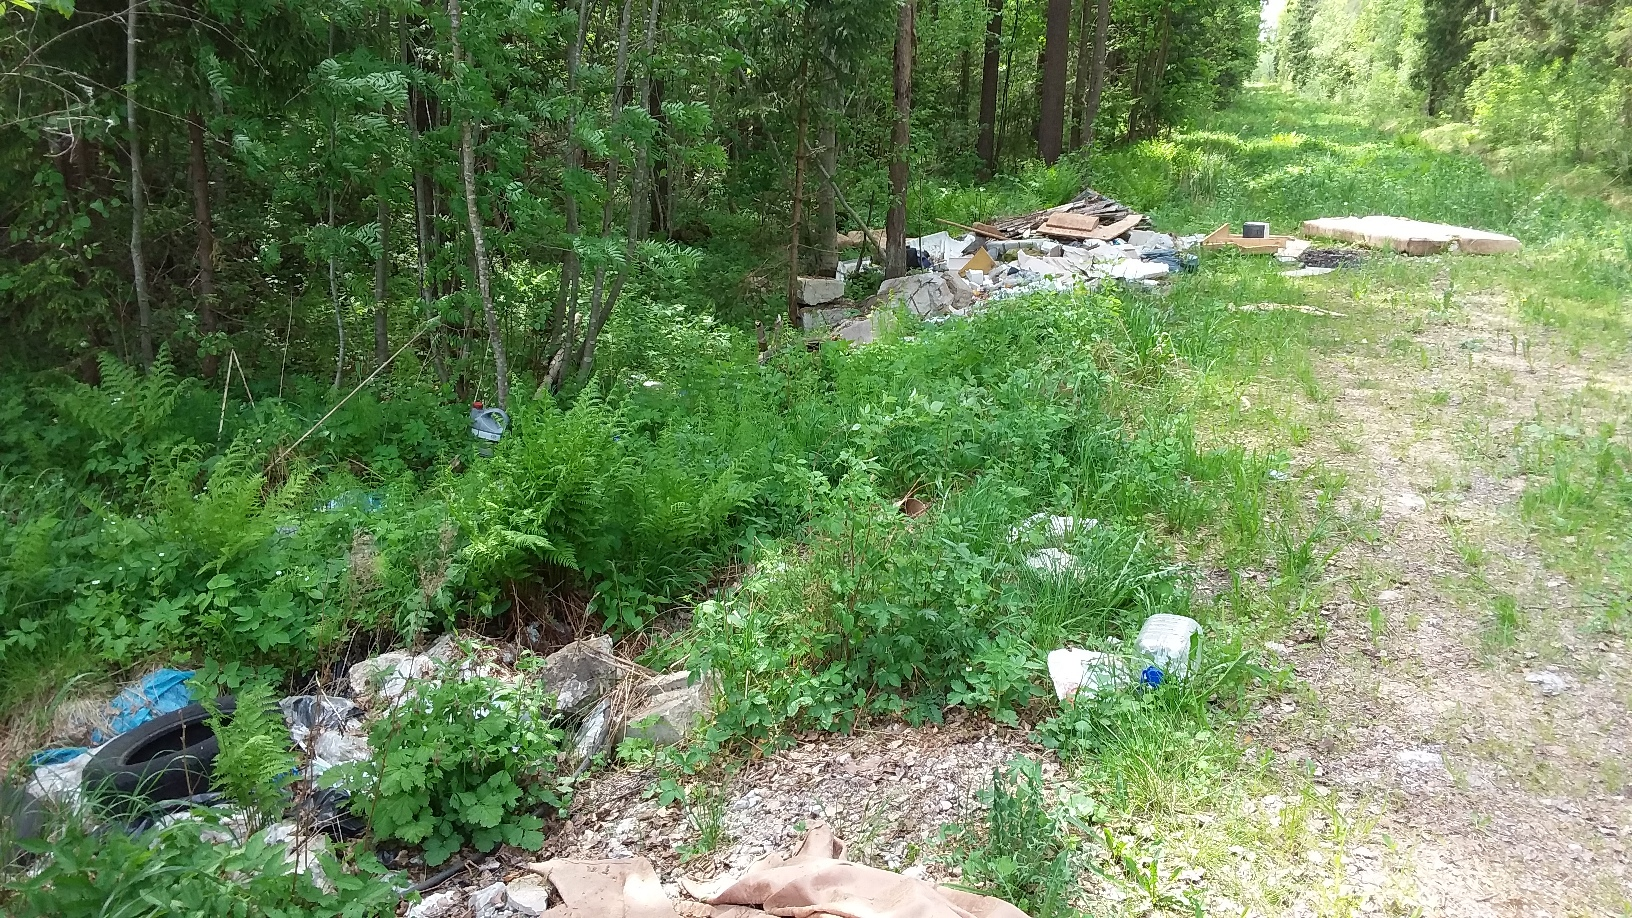trash: (25, 587, 757, 883), (763, 157, 1537, 356), (1008, 480, 1246, 733), (460, 380, 534, 460)
